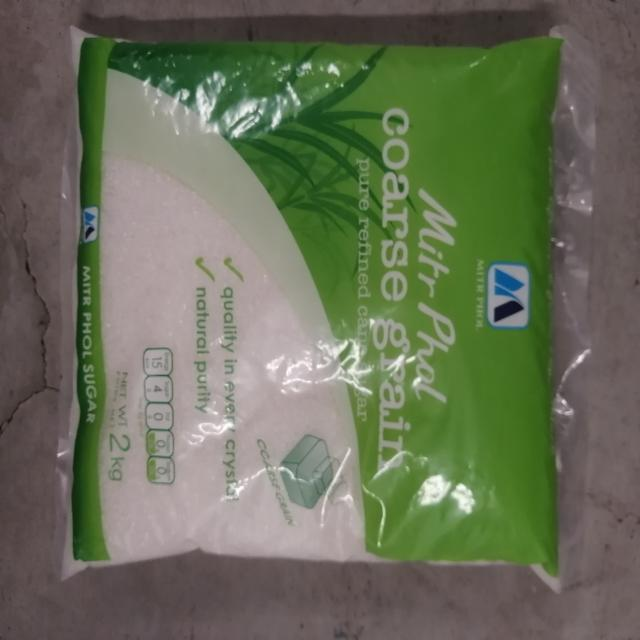object_name: (76, 38, 564, 582)
